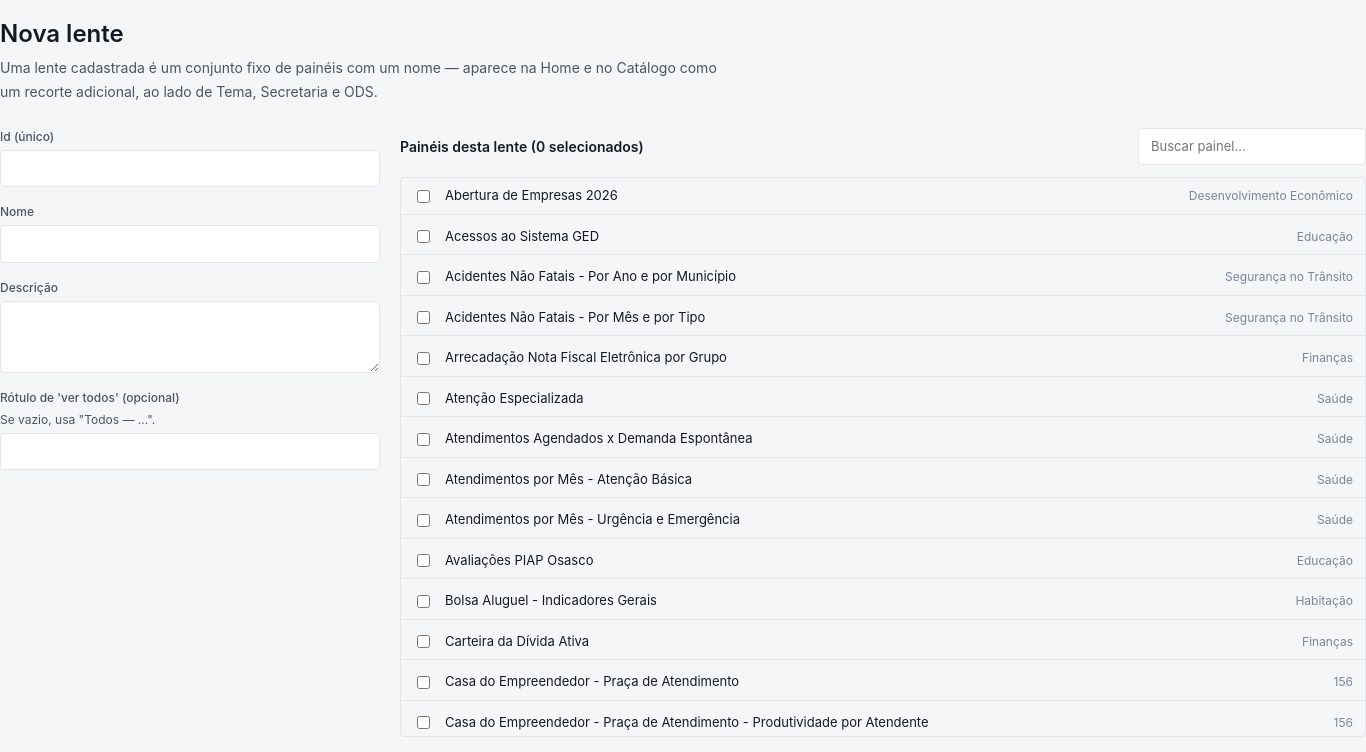
Scenario: LensEditorPage › rejeita id reservado por uma lente estática
Type "tema" into the field labelled "Id (único)" at point(190, 169), box [0,150,380,187]
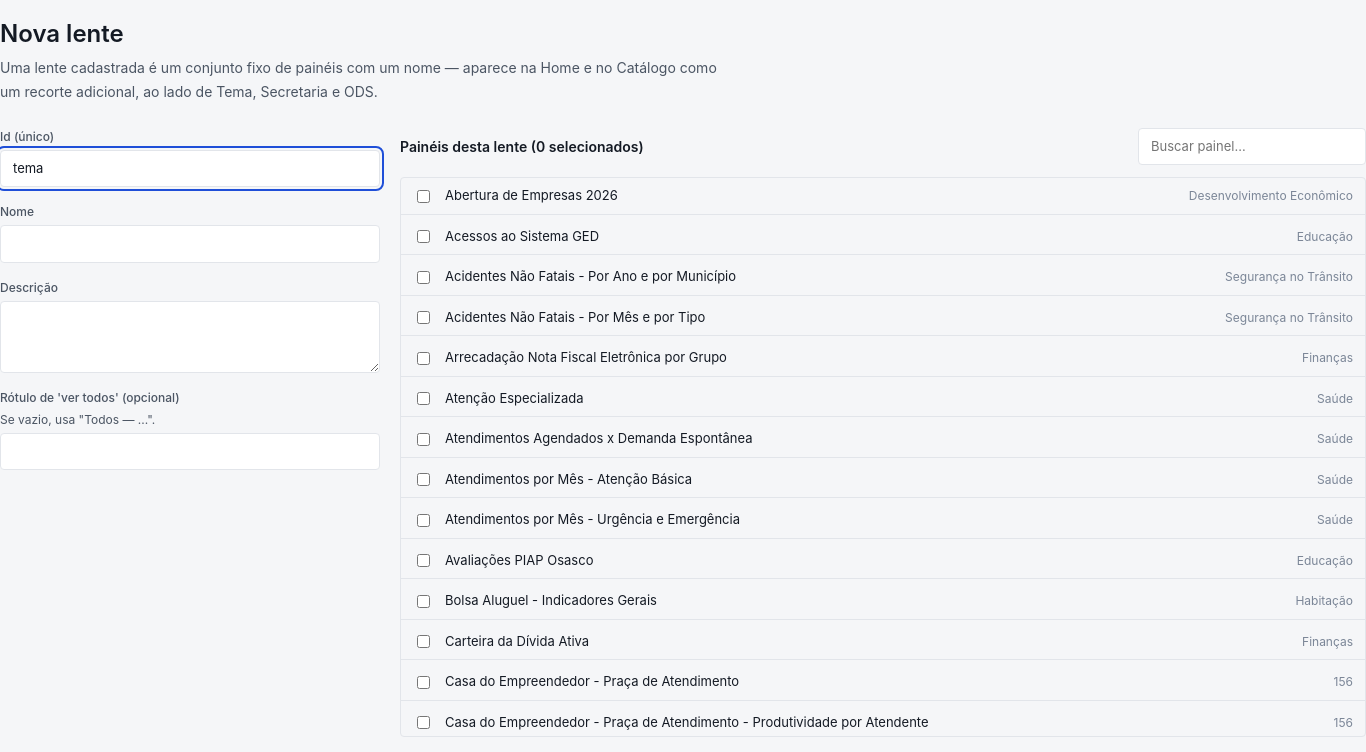
Type "Duplicado" into the field labelled "Nome" at point(190, 244), box [0,225,380,263]
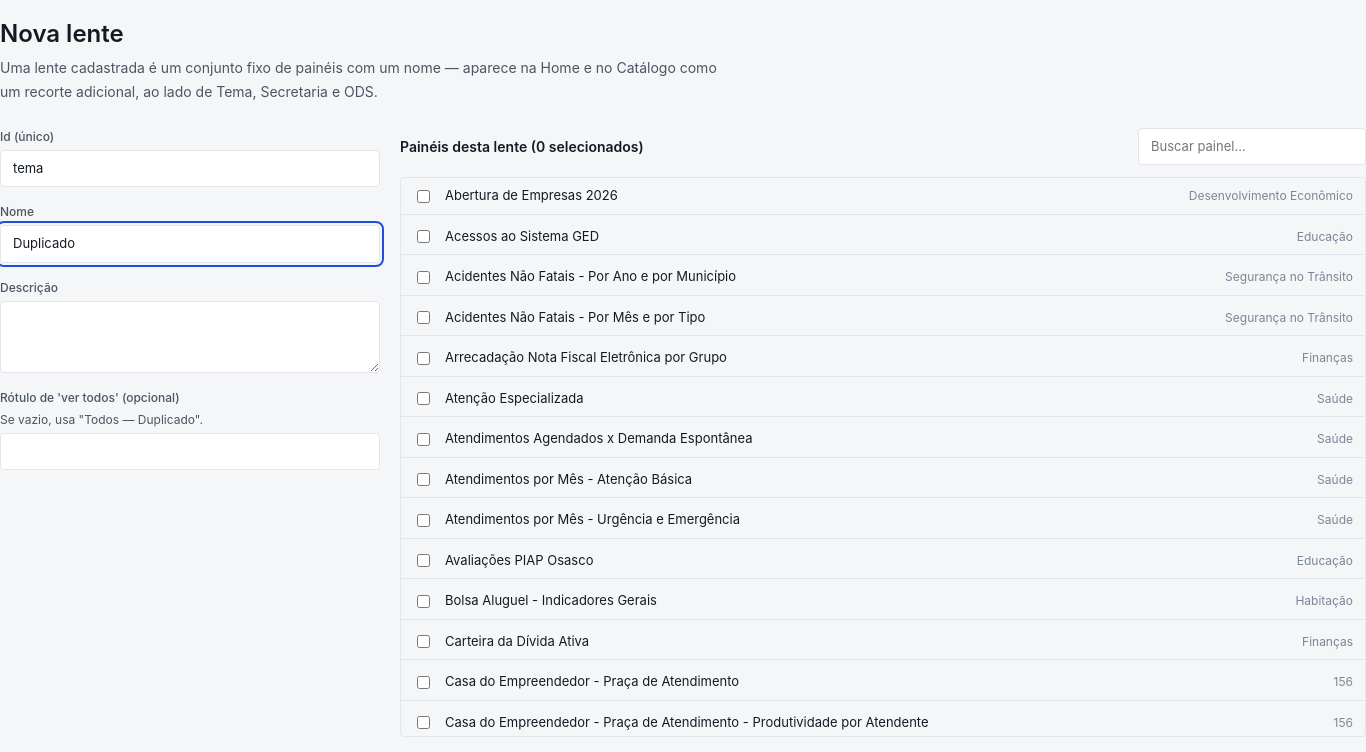
Type "Descrição qualquer." into the text box labelled "Descrição" at point(190, 337), box [0,301,380,373]
(page scrolled)
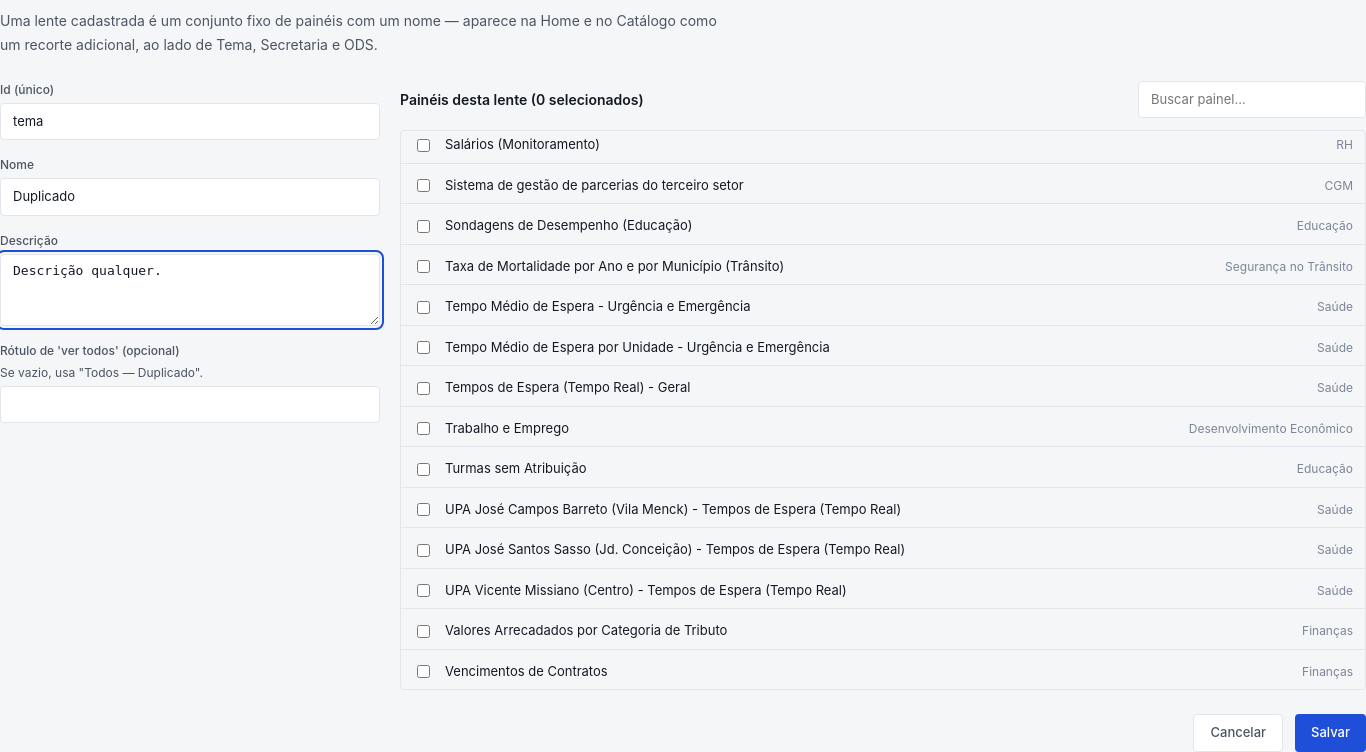
Click the checkbox labelled "Trabalho e Emprego Desenvolvimento Econômico" at point(424, 429), box [417,422,430,435]
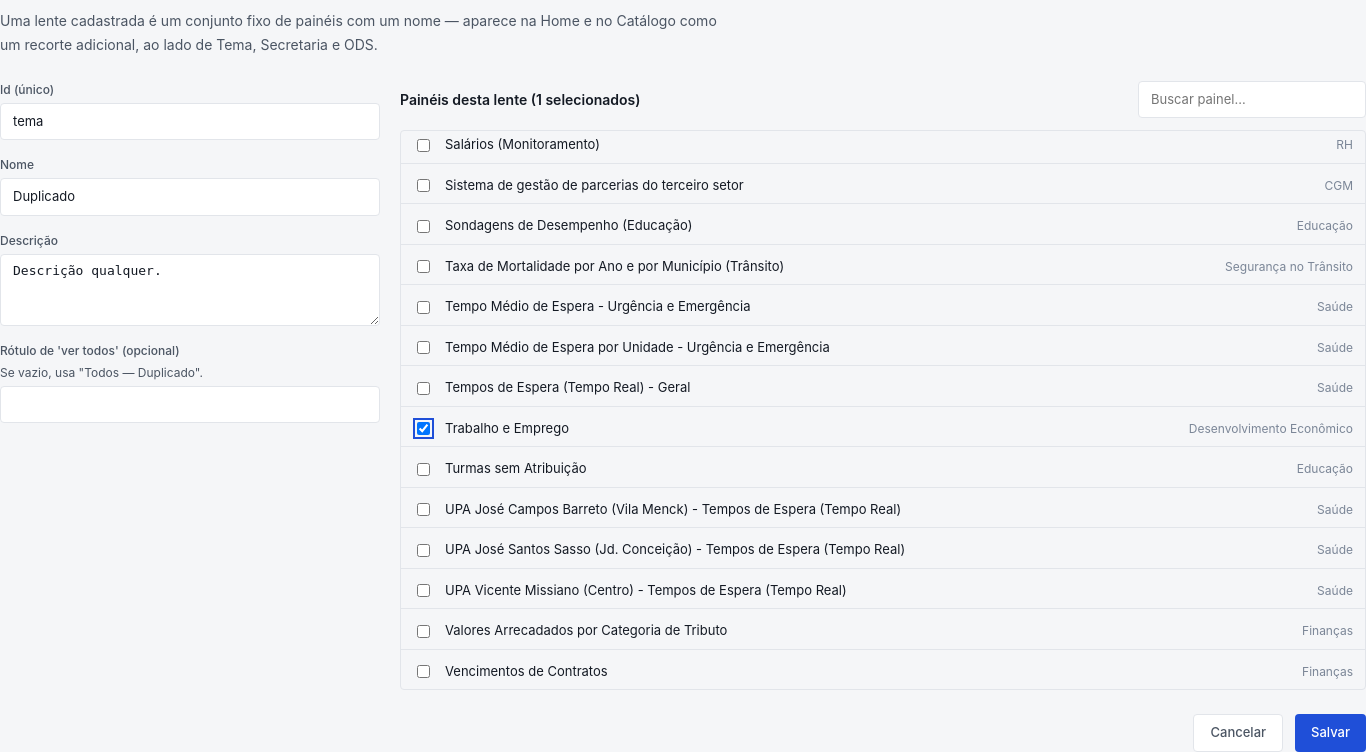
Click the button "Salvar" at point(1330, 733), box [1295,714,1365,751]
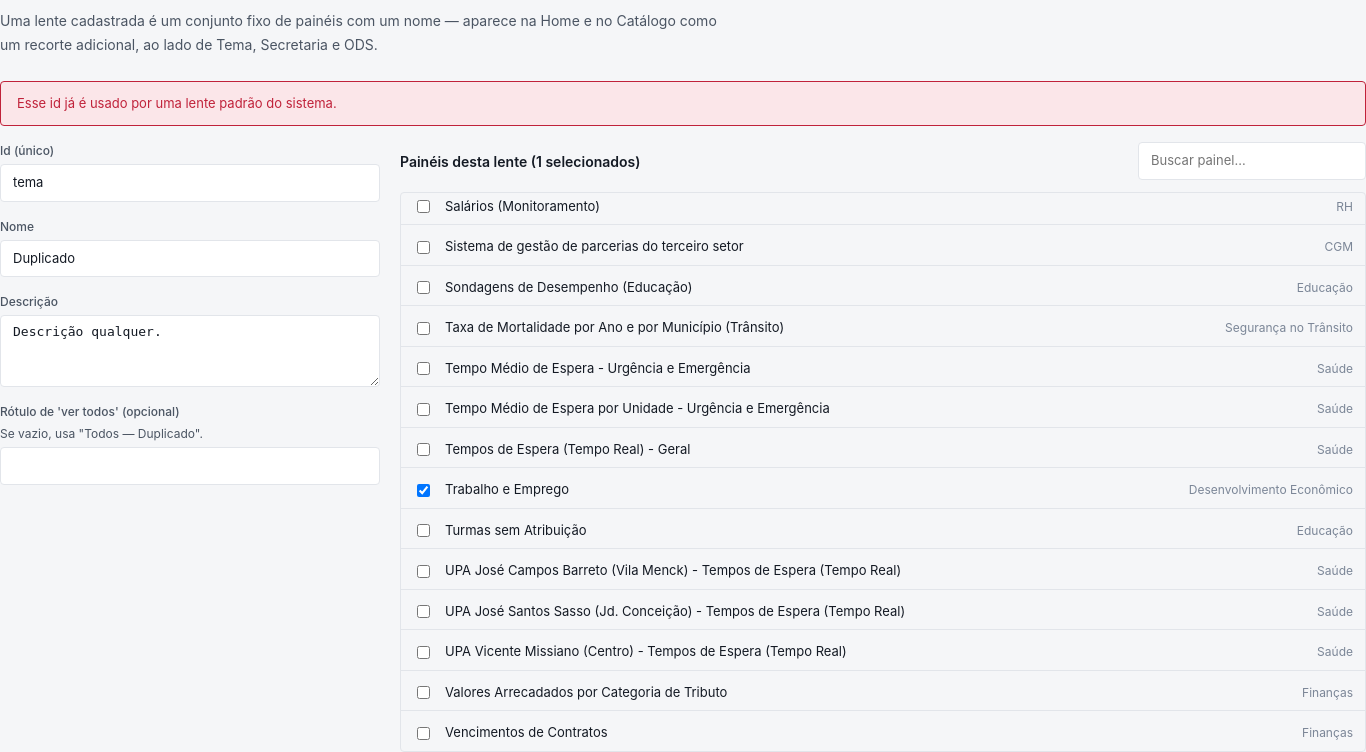
expect the message shows "já é usado por uma lente padrão": met, box [17,95,337,111]
